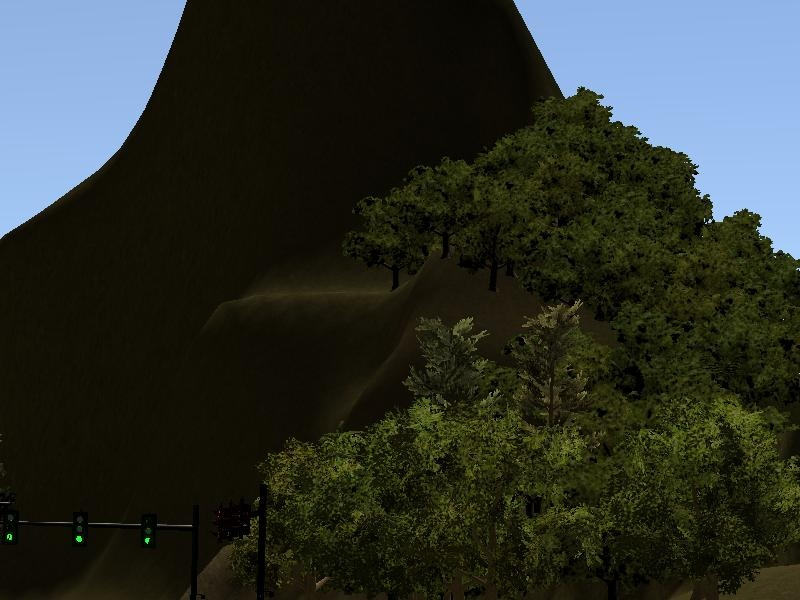GREEN: (1, 505, 20, 550), (68, 511, 89, 549), (137, 513, 158, 548)
